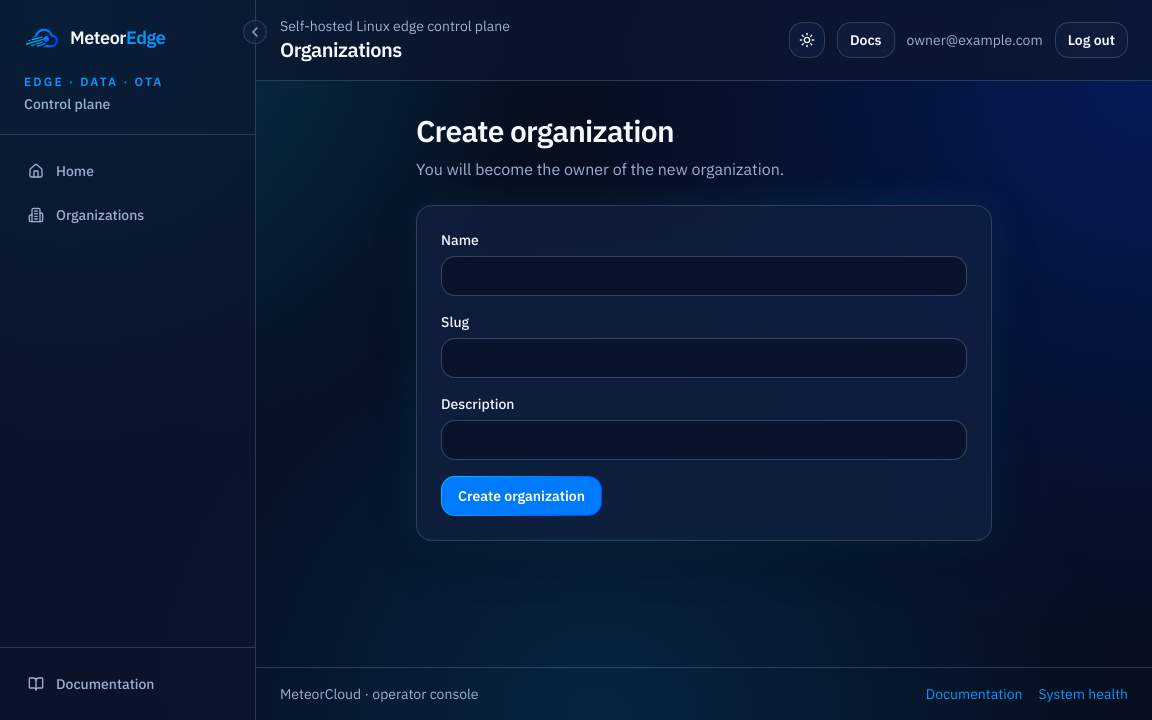
it: Organization UI › shows duplicate slug error
Expected: the heading "Create organization" is shown, [416,111,674,150]
In the field labelled "Name": (704, 276) [441,256,967,296], type "Acme"
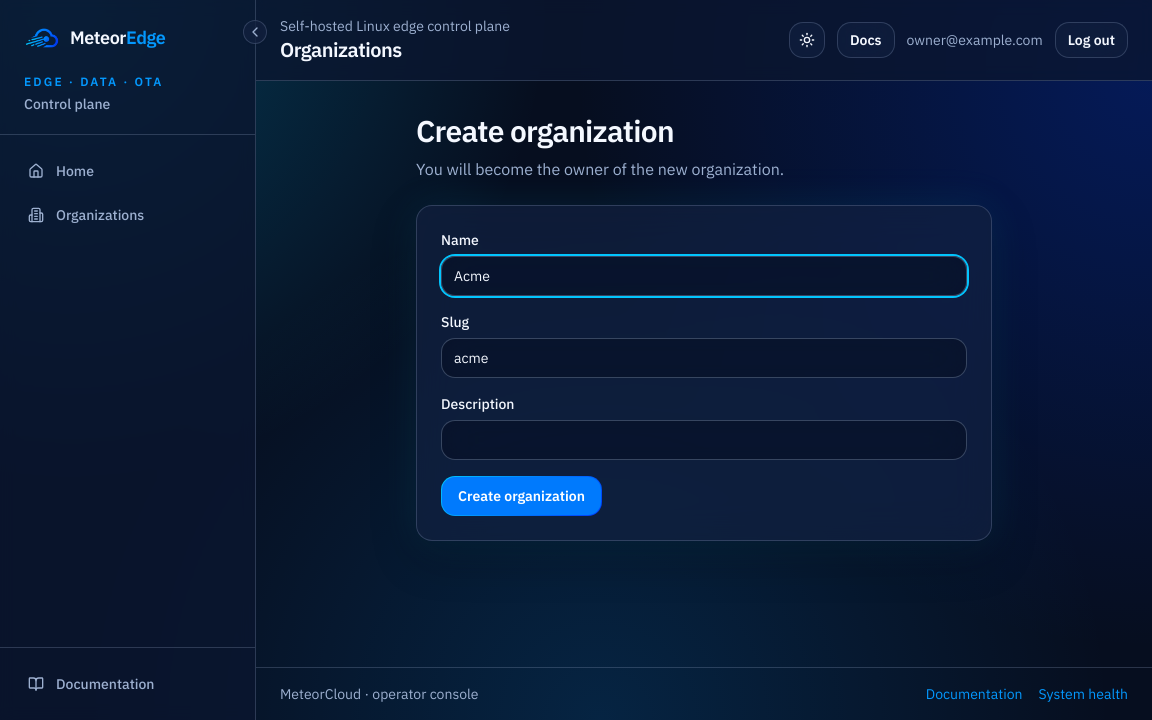
Click the button "Create organization": click(522, 496) [441,476,602,516]
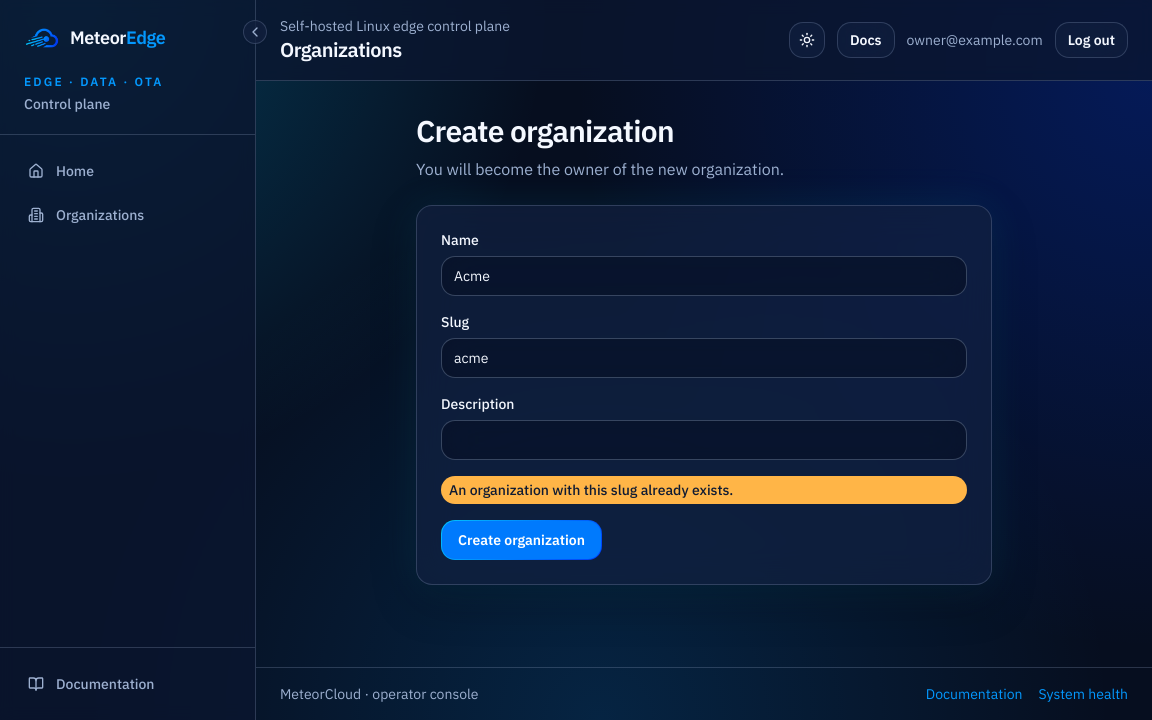
Expected: the text "An organization with this slug already exists." is shown, [441,476,967,504]
